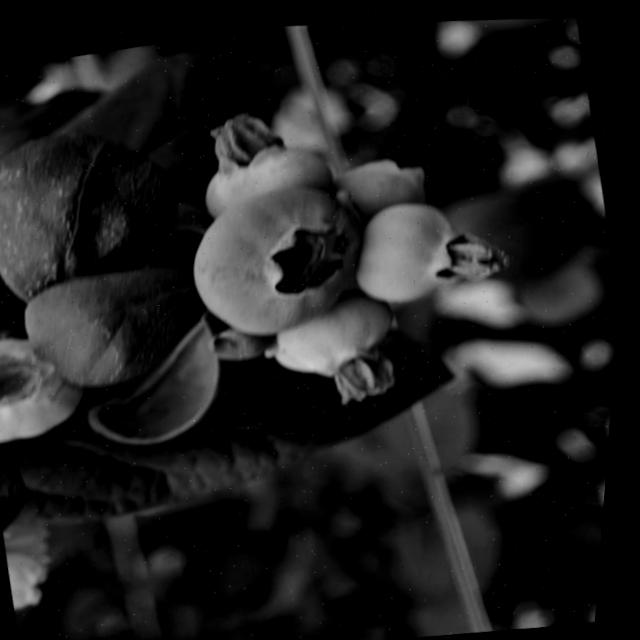RipeBlueBerry: (166, 155, 392, 356)
